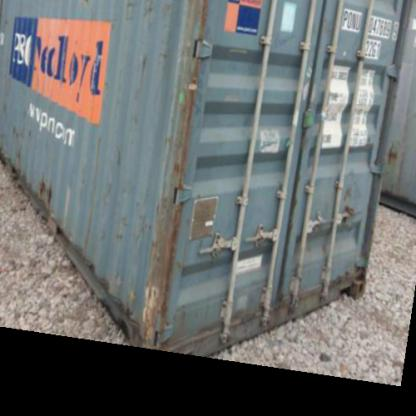Damage: (96, 270, 169, 340), (99, 188, 159, 248), (6, 113, 40, 173), (30, 170, 60, 204), (134, 48, 152, 100), (113, 142, 127, 176), (138, 2, 160, 20), (128, 110, 146, 127), (162, 0, 176, 18), (156, 46, 168, 60), (126, 0, 137, 14)
